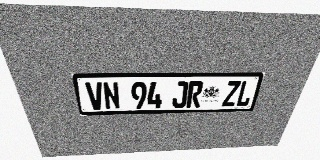4: (147, 81, 163, 109)
9: (131, 82, 147, 109)
J: (172, 81, 189, 108)
L: (235, 81, 256, 106)
N: (102, 82, 121, 110)
R: (186, 81, 204, 108)
V: (85, 82, 105, 110)
Z: (222, 81, 241, 107)
